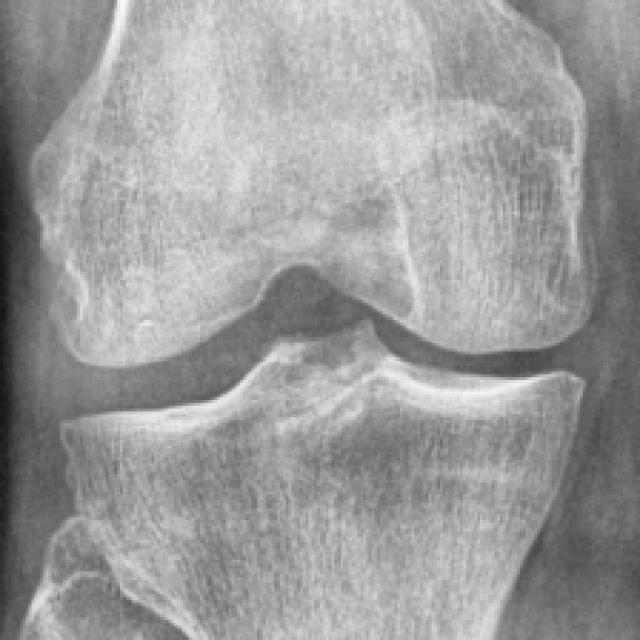femur: (25, 1, 598, 366)
tibia: (57, 317, 586, 640)
